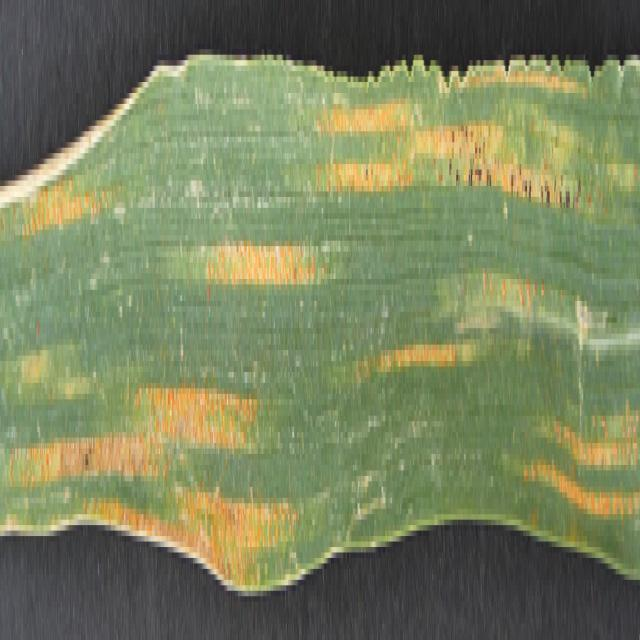leaf rust: (320, 66, 640, 542), (2, 153, 312, 564)
